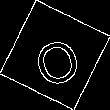O_N: (26, 24, 84, 86)
